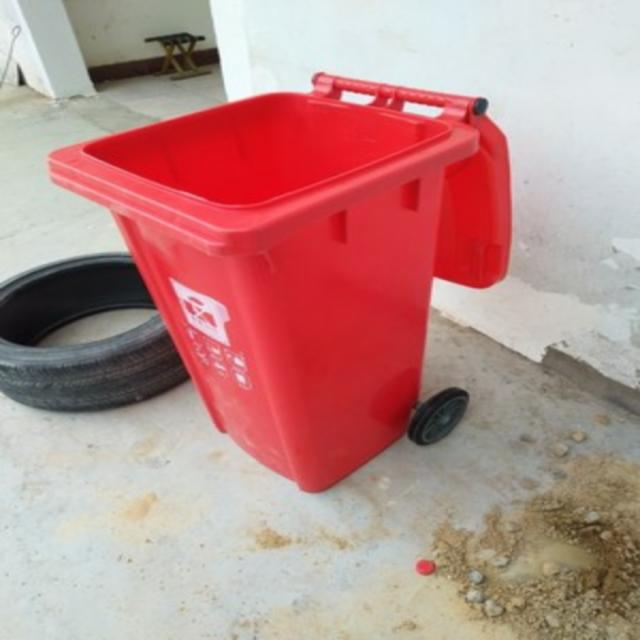ash bin: (43, 70, 512, 488)
